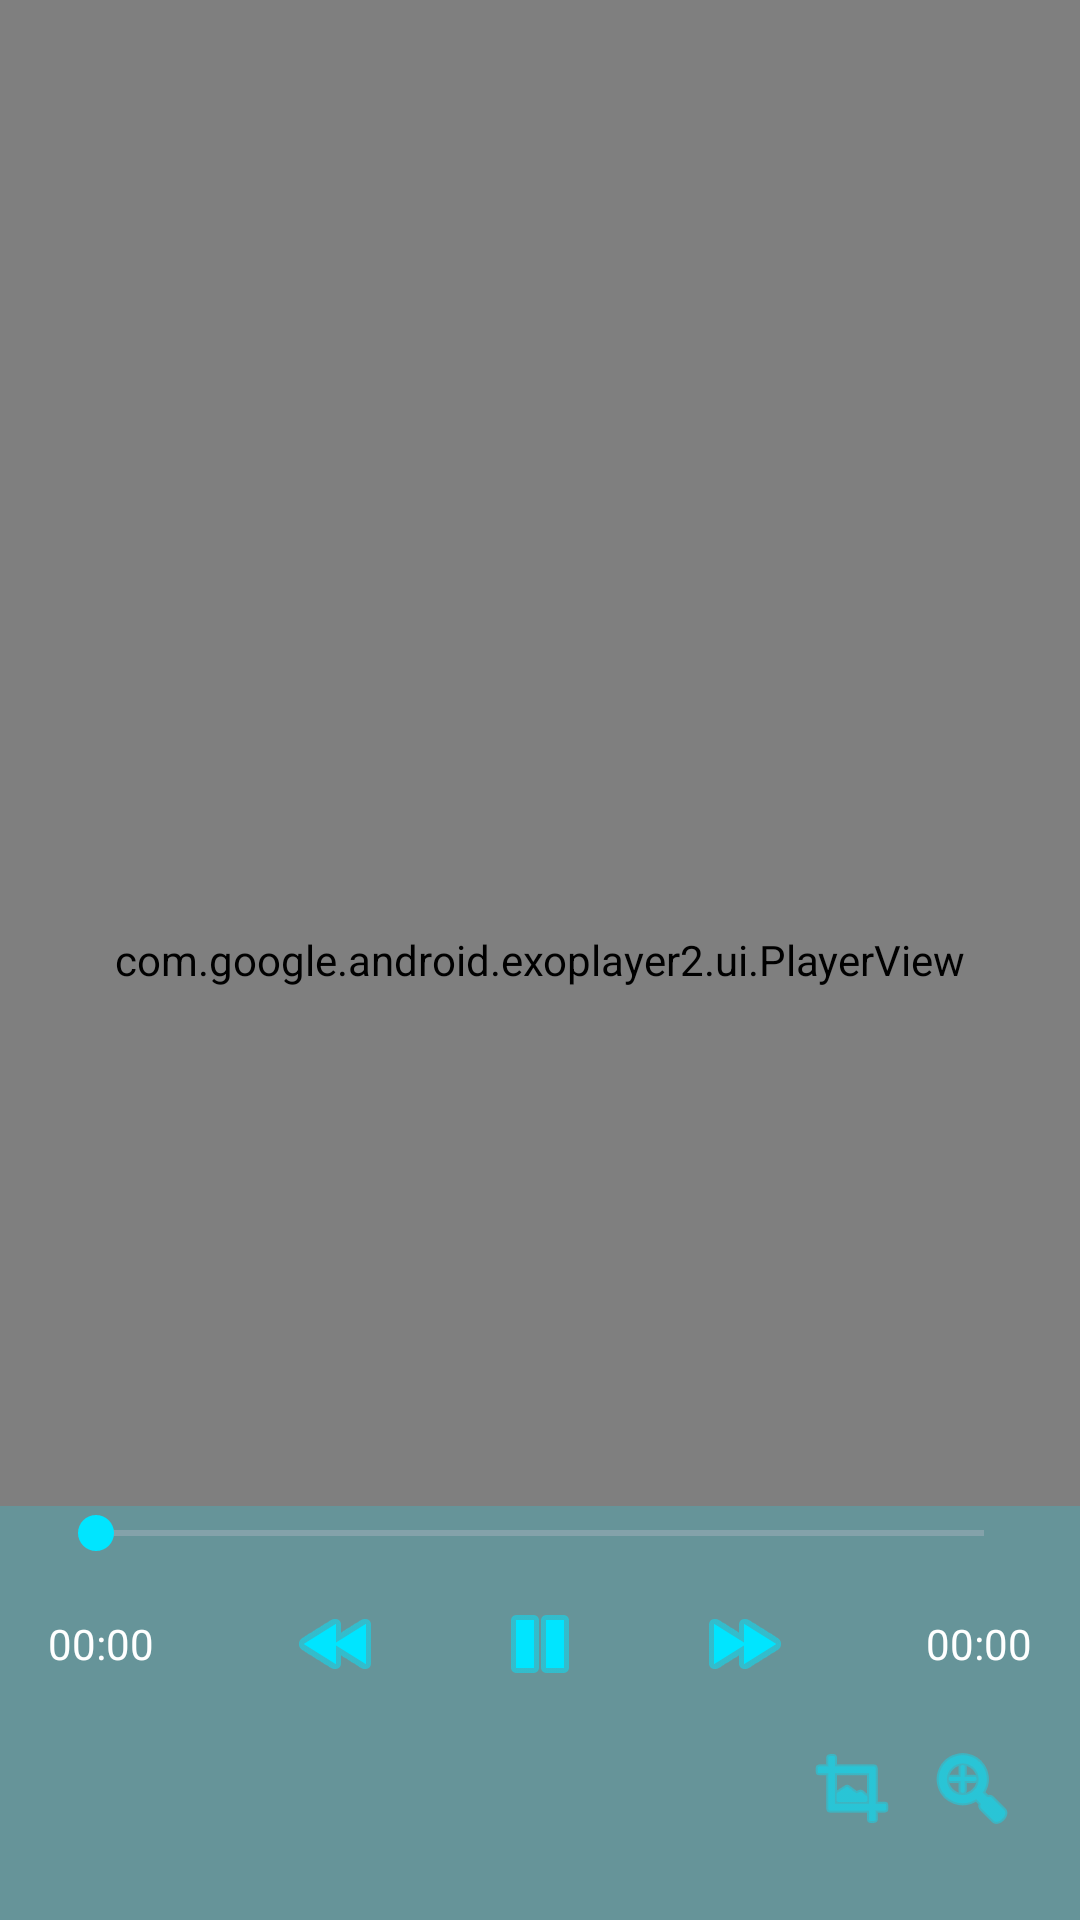

Named icons in this screenshot (1080 x 1920) and their bounding boxes, region(x1, y1, x2, y2):
تشغيل / إيقاف: region(511, 1615, 569, 1673)
تقديم 10 ثواني: region(709, 1619, 781, 1669)
رجوع 10 ثواني: region(299, 1619, 371, 1669)
